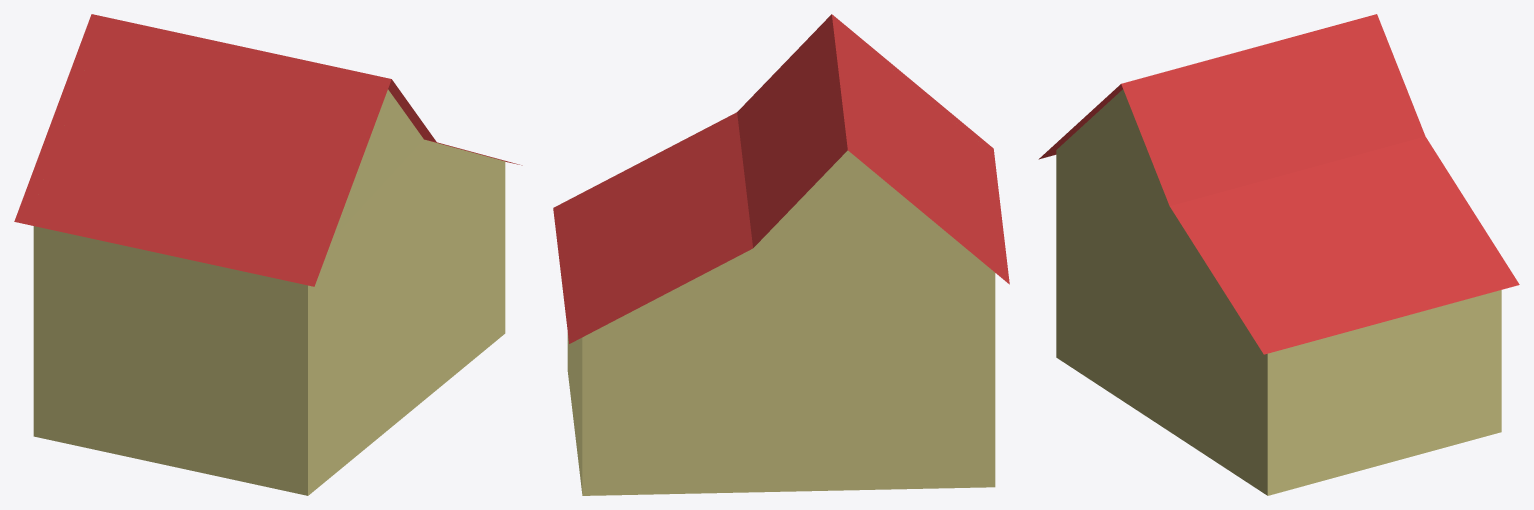
The picture shows the model from 3 angles, left to right: view 1: azimuth 30°, elevation 25°; view 2: azimuth 150°, elevation 25°; view 3: azimuth 270°, elevation 25°; orthographic projection. The views are drawn at different scales.
Size of the model in its own units: 19.63 by 18.37 by 13.73.
